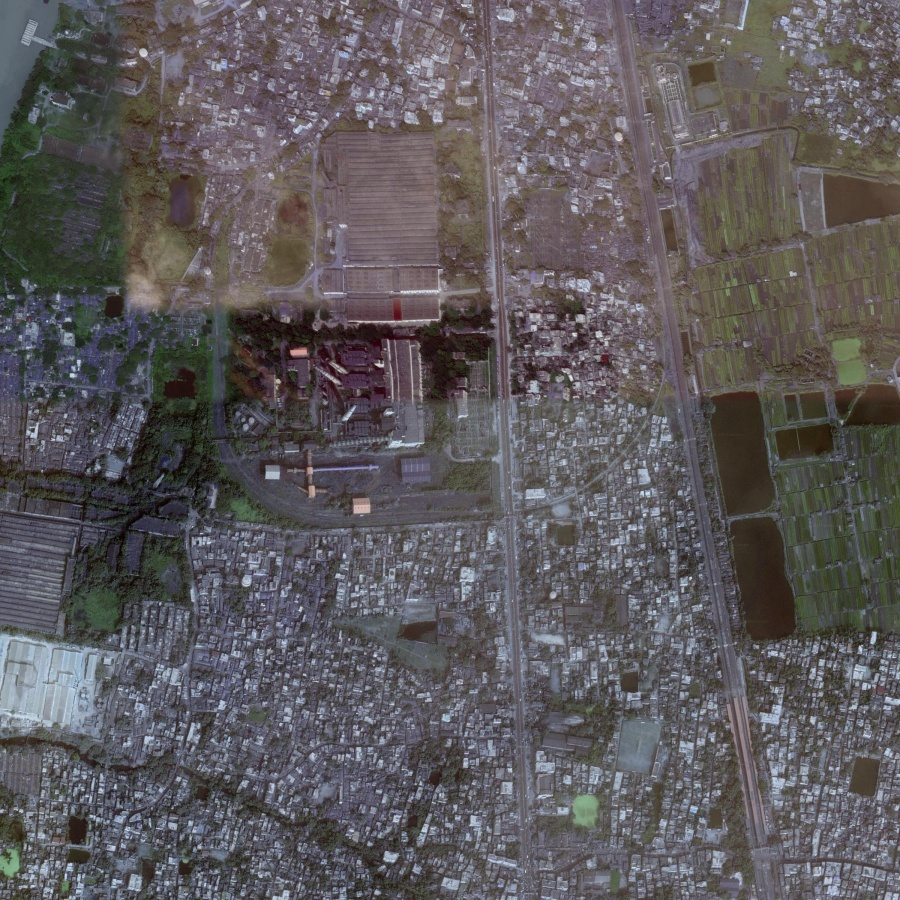PowerPlant: (219, 274, 464, 513)
